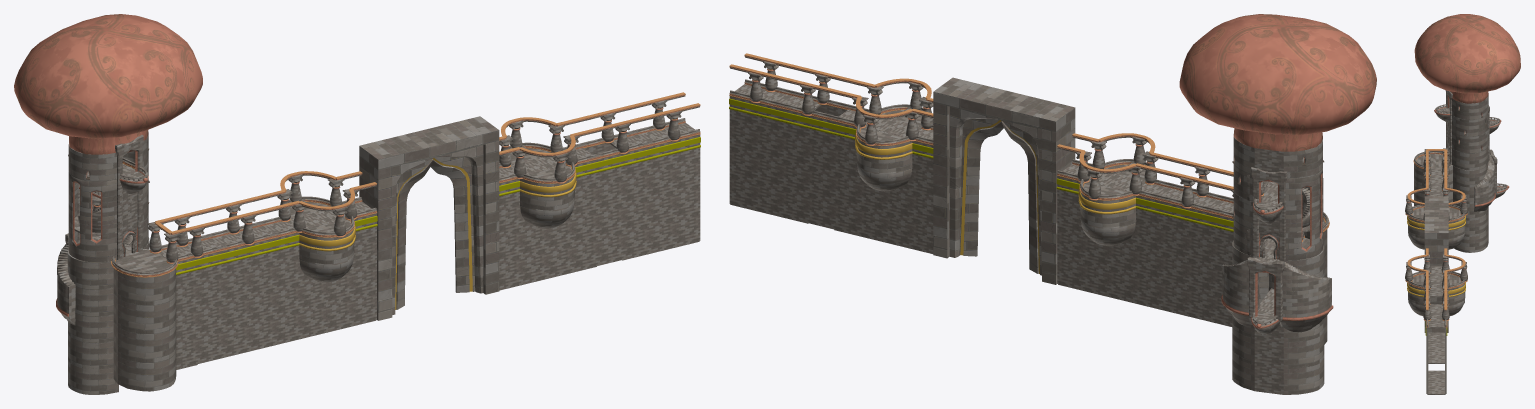
File: tower_wall_southwest_1.fbx
The picture shows the model from 3 angles, left to right: view 1: azimuth 30°, elevation 25°; view 2: azimuth 150°, elevation 25°; view 3: azimuth 270°, elevation 25°; orthographic projection. The views are drawn at different scales.
Parts seen in each view (by area): view 1: dome_golden_top_big:dome_golden_top_big:polySurface1086, gate_frame_3, polySurface933polySurface920polySurface919, polySurface1007, polySurface933polySurface920polySurface924, tower_windows_bot:tower_windows_bot:polySurface955, polySurface933polySurface920polySurface913, polySurface933polySurface920polySurface915, walls_pillar_square:walls_pillar_square:polySurface933polySu, polySurface933polySurface920polySurface914, wall_pill_mid_flat:polySurface933polySurface920polySurface91, tower_windows_bot:tower_windows_bot:tower_window_mid_copper2 (+50 smaller); view 2: dome_golden_top_big:dome_golden_top_big:polySurface1086, gate_frame_3, spiral_stairs_outer_1:polySurface8, polySurface939 (×2), polySurface933polySurface920polySurface913 (×2), spiral_stairs_outer_1:polySurface6, polySurface933polySurface920polySurface915, polySurface933polySurface920polySurface924, polySurface933polySurface920polySurface925, polySurface1007, tower_windows_bot:tower_windows_bot:polySurface955, tower_windows_bot:tower_windows_bot:tower_window_mid_copper2 (+50 smaller); view 3: dome_golden_top_big:dome_golden_top_big:polySurface1086, gate_frame_3, dome_golden_top_big:dome_golden_top_big:polySurface933polySu (×3), spiral_stairs_outer_1:polySurface6, dome_golden_top_big:polySurface1007, dome_golden_top_big:polySurface1087, dome_golden_top_big:dome_golden_top_big:polySurface1007, polySurface933polySurface920polySurface919, polySurface933polySurface920polySurface923, polySurface933polySurface920polySurface916, polySurface939 (×2), walls_pillar_square:walls_pillar_square:polySurface933polySu (+26 smaller).
Part boxes in pixels (x1,y1,x2,y2): dome_golden_top_big:dome_golden_top_big:polySurface1086: (14,14,202,154); gate_frame_3: (359,116,499,320); polySurface933polySurface920polySurface919: (113,249,176,391); polySurface1007: (68,143,116,181); polySurface933polySurface920polySurface924: (68,360,118,394); tower_windows_bot:tower_windows_bot:polySurface955: (68,226,116,261); polySurface933polySurface920polySurface913: (67,249,113,289); polySurface933polySurface920polySurface915: (68,333,113,369); walls_pillar_square:walls_pillar_square:polySurface933polySu: (68,313,113,342); polySurface933polySurface920polySurface914: (299,229,354,264); wall_pill_mid_flat:polySurface933polySurface920polySurface91: (520,175,574,210); tower_windows_bot:tower_windows_bot:tower_window_mid_copper2: (68,189,116,235); dome_golden_top_big:dome_golden_top_big:polySurface1086: (1179,14,1376,151); gate_frame_3: (933,77,1075,284); spiral_stairs_outer_1:polySurface8: (1279,261,1331,332); polySurface939 (×2): (857,162,1135,245); polySurface933polySurface920polySurface913 (×2): (856,137,1324,276); spiral_stairs_outer_1:polySurface6: (1222,260,1259,325); polySurface933polySurface920polySurface915: (1283,331,1324,368); polySurface933polySurface920polySurface924: (1283,358,1324,394); polySurface933polySurface920polySurface925: (1080,192,1135,227); polySurface1007: (1283,139,1322,178); tower_windows_bot:tower_windows_bot:polySurface955: (1285,221,1323,260); tower_windows_bot:tower_windows_bot:tower_window_mid_copper2: (1285,186,1323,233); dome_golden_top_big:dome_golden_top_big:polySurface1086: (1414,14,1520,103); gate_frame_3: (1424,196,1448,332); dome_golden_top_big:dome_golden_top_big:polySurface933polySu (×3): (1452,146,1488,203); spiral_stairs_outer_1:polySurface6: (1474,160,1494,211); dome_golden_top_big:polySurface1007: (1452,94,1488,120); dome_golden_top_big:polySurface1087: (1452,128,1488,153); dome_golden_top_big:dome_golden_top_big:polySurface1007: (1452,112,1488,136); polySurface933polySurface920polySurface919: (1414,155,1452,206); polySurface933polySurface920polySurface923: (1454,227,1488,252); polySurface933polySurface920polySurface916: (1464,211,1488,236); polySurface939 (×2): (1448,232,1464,315); walls_pillar_square:walls_pillar_square:polySurface933polySu: (1453,199,1488,220).
Bounding box in the file's own units: 125 × 65.23 × 31.55.
